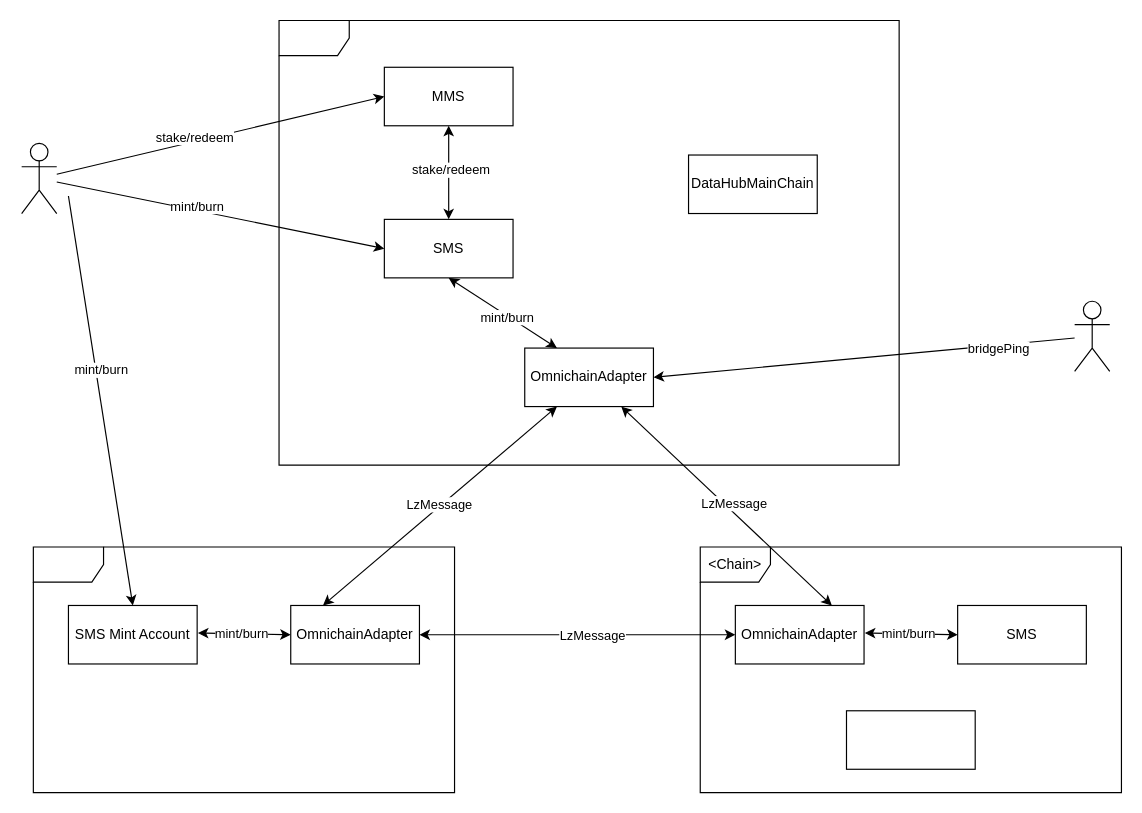
This 1142x813 diagram has some shape labels left out. The box of each missing label's shape, as (x1, y1, x2, y2) in pixels:
Arbitrum: (278, 19, 899, 465)
DataHub: (845, 710, 975, 769)
Minter: (20, 142, 57, 214)
Solana: (32, 546, 455, 793)
User: (1073, 300, 1110, 371)
